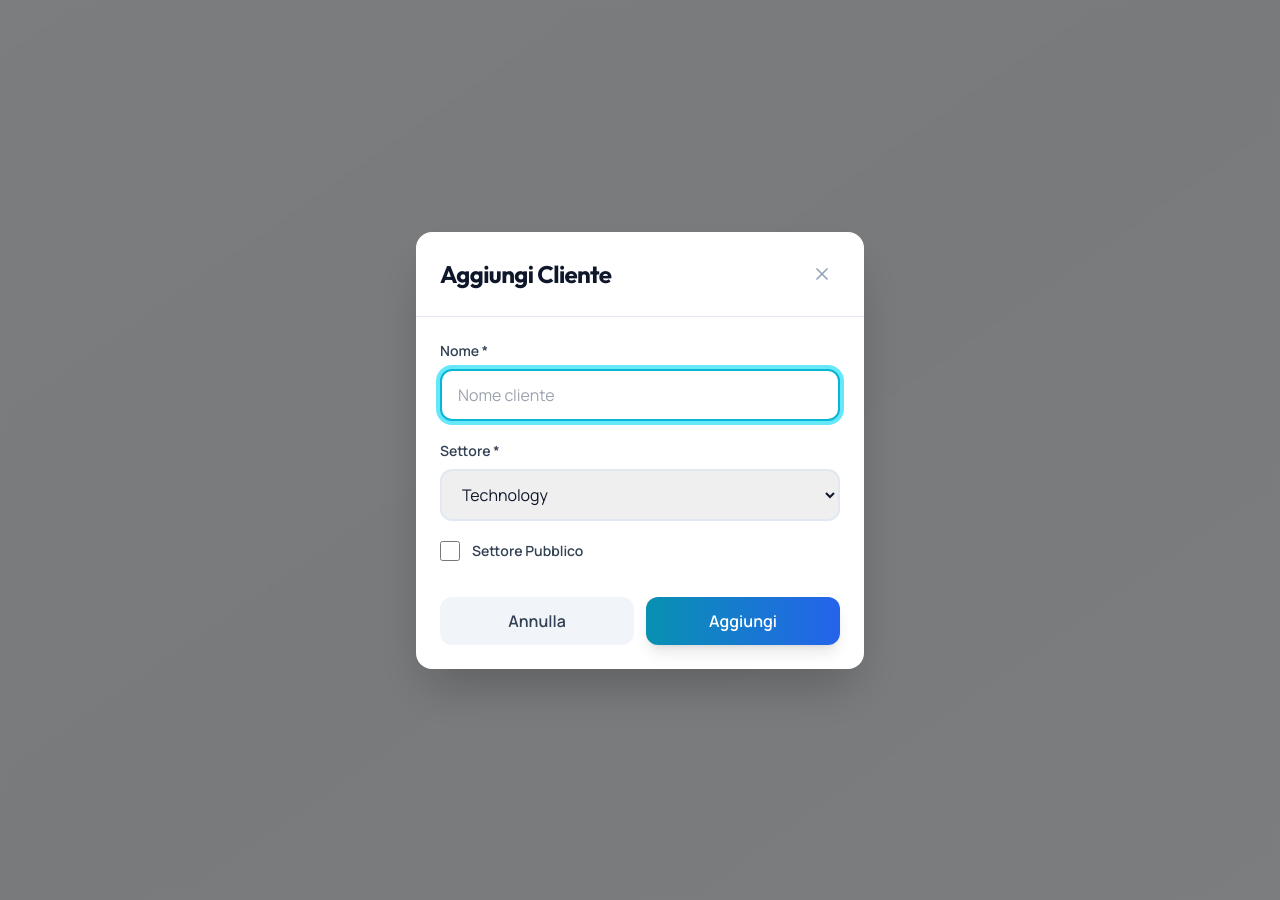
Test: QuickAddCustomerModal › Submit Errors › should show error when addCustomer fails
Type "Test" into the field labelled "Nome *".
click(640, 394); type("Test")  # box [440, 368, 840, 420]
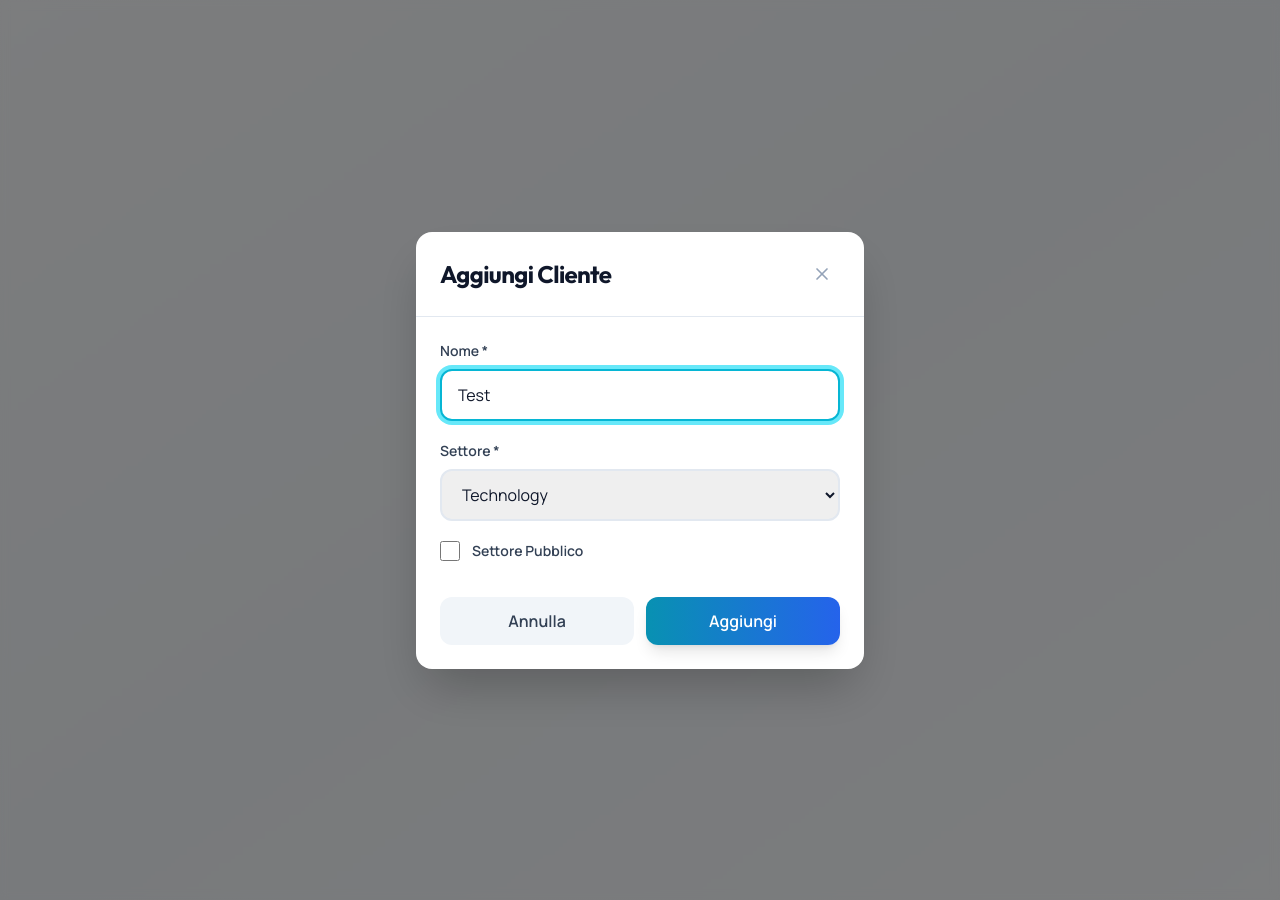
Click the button "Aggiungi".
click(743, 620)  # box [646, 596, 840, 644]
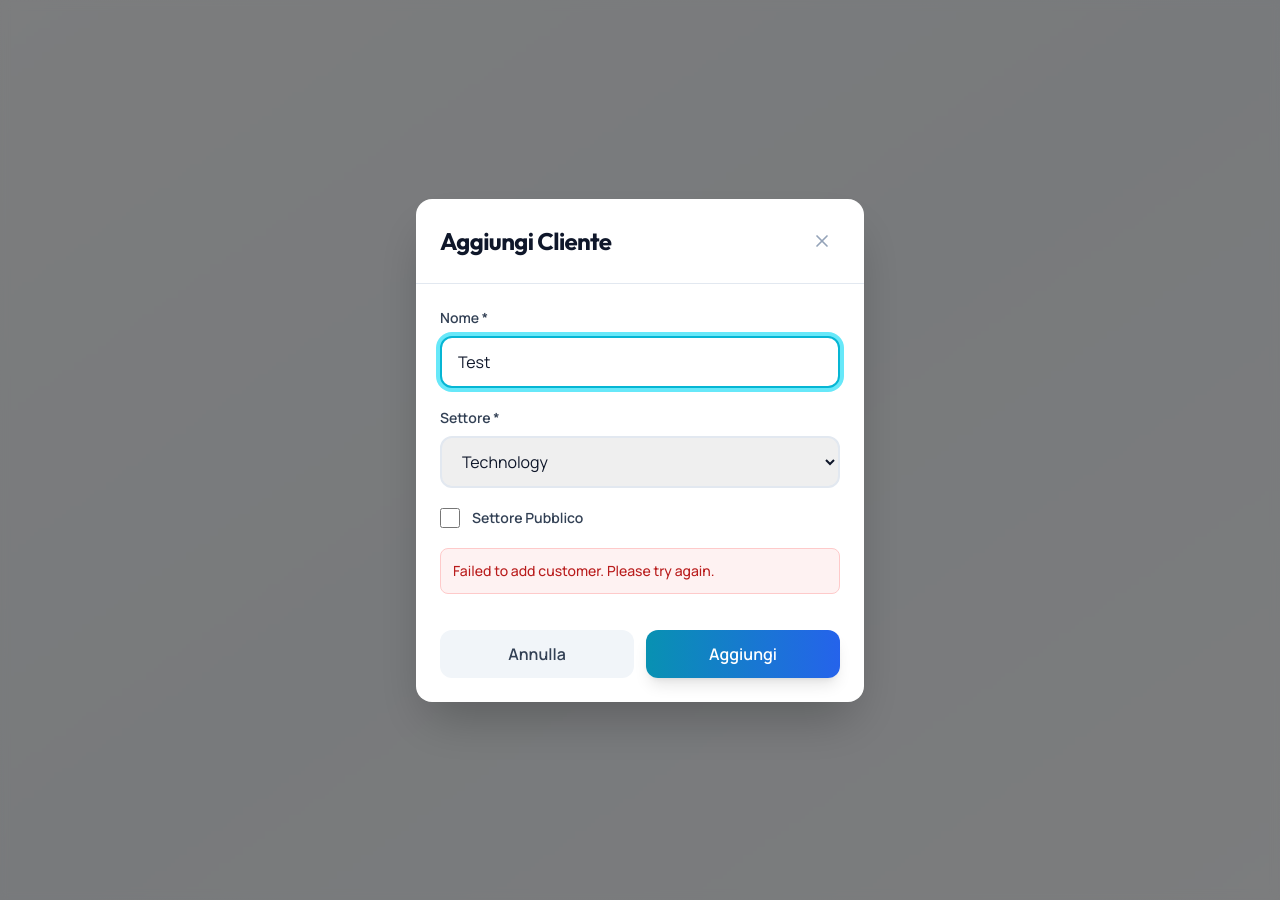
expect the text "Failed to add customer. Please try again." is shown: met, box [453, 560, 715, 580]
